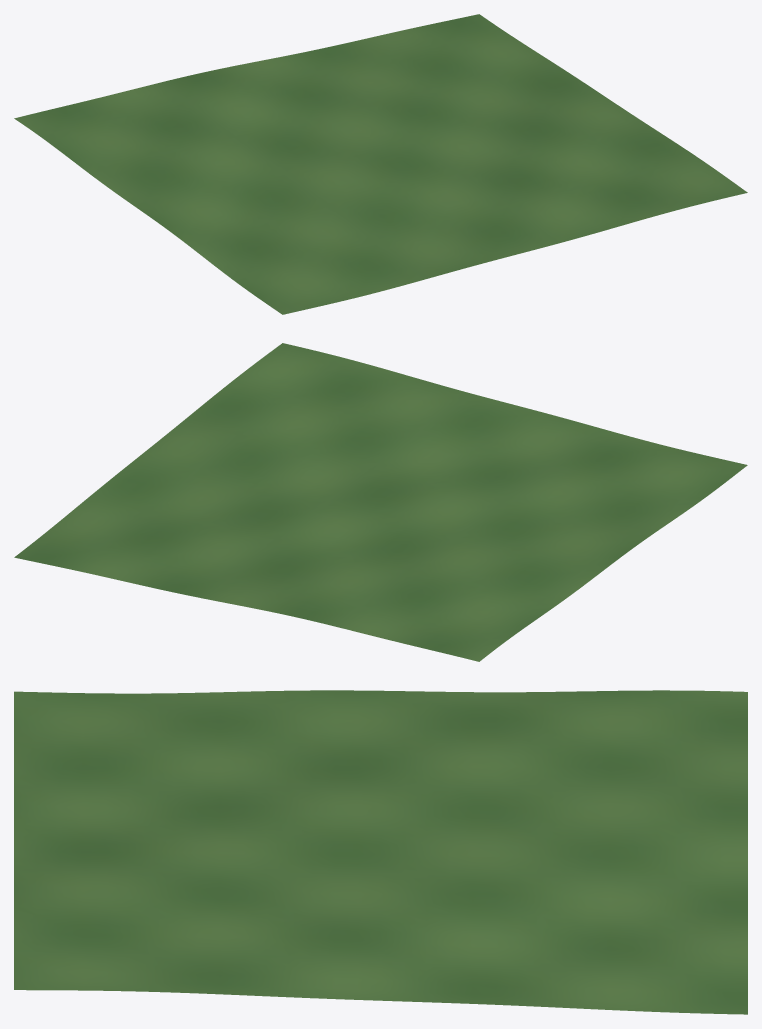
Rendered from chunk_8_3.glb.
3 renders of one model, top to bottom at view 1: azimuth 30°, elevation 25°; view 2: azimuth 150°, elevation 25°; view 3: azimuth 270°, elevation 25°, orthographic. The views are drawn at different scales.
Bounding box in the file's own units: 512 × 19.11 × 512.
